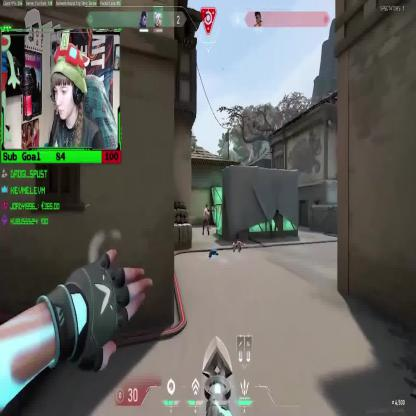enemy: (201, 201, 211, 235)
enemy_head: (205, 204, 208, 210)
